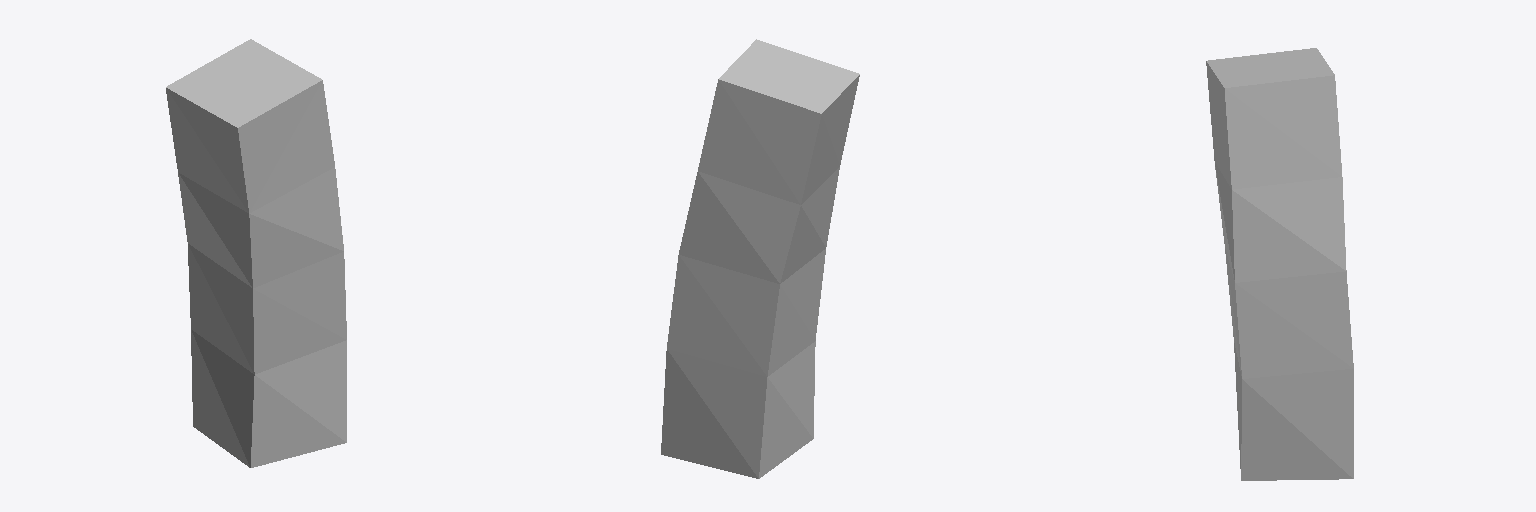
Rendered from wiggle_000040.obj.
3 views of the same model, side by side, from view 1: azimuth 30°, elevation 25°; view 2: azimuth 150°, elevation 25°; view 3: azimuth 270°, elevation 25° (orthographic).
Parts seen in each view (by area): view 1: Cube; view 2: Cube; view 3: Cube.
Boxes of the visible parts, <box> form: Cube: <box>166,39,346,467</box>; Cube: <box>661,39,859,478</box>; Cube: <box>1206,48,1353,480</box>.
Bounding box in the file's own units: 2.97 × 7.52 × 2.63.